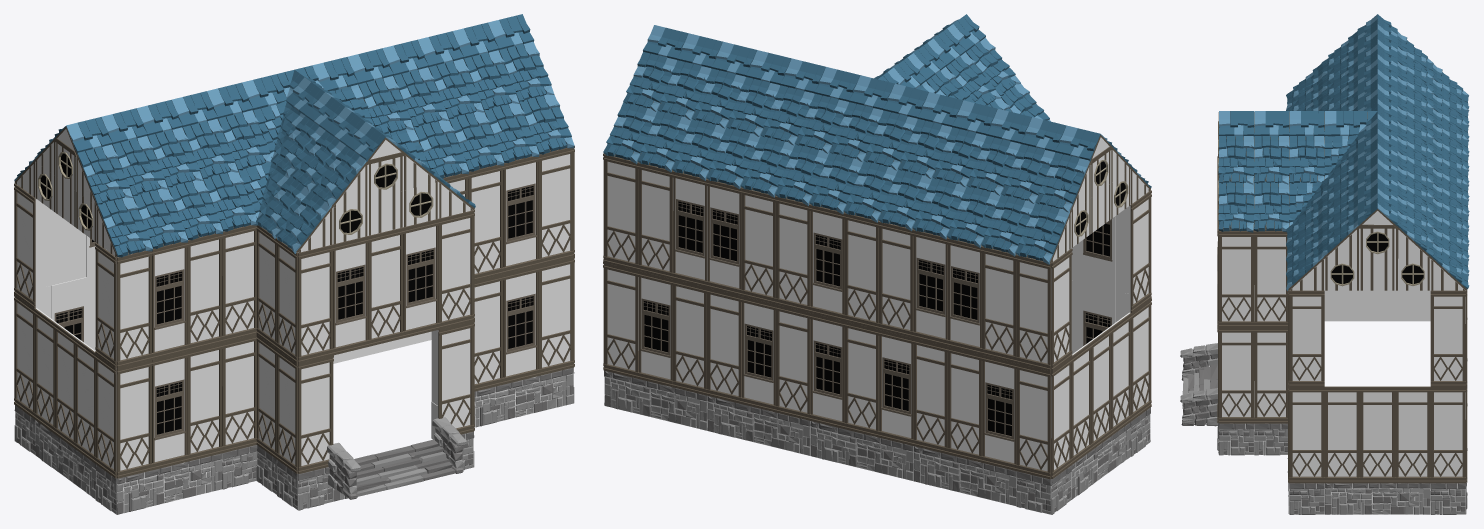
Rendered from House_16_parts.glb.
The picture shows the model from 3 angles, left to right: view 1: azimuth 30°, elevation 25°; view 2: azimuth 150°, elevation 25°; view 3: azimuth 270°, elevation 25°; orthographic projection. The views are drawn at different scales.
Visible parts, largest first — view 1: STAIRS_02_2, WINDOW_04_5, WALL_01_14, WALL_01_16, WALL_01_15, WINDOW_04_6, WINDOW_04_4, WINDOW_04_11, WALL_01_40, WALL_01_12, WINDOW_04_3, WALL_01_41 (+89 smaller); view 2: WALL_01_28, WALL_01_53, WALL_01_24, WALL_01_55, WALL_01_27, WALL_01_25, WALL_01_49, WINDOW_04_17, WALL_01_56, WALL_01_30, WINDOW_04_16, WALL_01_31 (+84 smaller); view 3: WALL_01_47, WALL_01_43, WALL_01_45, WALL_01_46, WALL_01_42, WALL_01_44, WALL_01_48, FOUNDATION_02_34, FOUNDATION_02_29, WALL_01_34, WALL_01_33, WALL_01_35 (+69 smaller).
Part boxes in pixels (x1=…): STAIRS_02_2: x1=327, y1=417, x2=466, y2=499; WINDOW_04_5: x1=403, y1=219, x2=439, y2=337; WALL_01_14: x1=298, y1=244, x2=333, y2=363; WALL_01_16: x1=438, y1=210, x2=474, y2=329; WALL_01_15: x1=368, y1=227, x2=404, y2=346; WINDOW_04_6: x1=333, y1=236, x2=368, y2=355; WINDOW_04_4: x1=152, y1=242, x2=187, y2=359; WINDOW_04_11: x1=503, y1=156, x2=539, y2=273; WALL_01_40: x1=538, y1=148, x2=574, y2=265; WALL_01_12: x1=187, y1=233, x2=222, y2=351; WINDOW_04_3: x1=152, y1=351, x2=187, y2=469; WALL_01_41: x1=538, y1=257, x2=574, y2=375; WALL_01_28: x1=1016, y1=255, x2=1051, y2=371; WALL_01_53: x1=775, y1=196, x2=810, y2=312; WALL_01_24: x1=1016, y1=363, x2=1051, y2=479; WALL_01_55: x1=638, y1=162, x2=673, y2=278; WALL_01_27: x1=844, y1=321, x2=879, y2=437; WALL_01_25: x1=947, y1=346, x2=982, y2=462; WALL_01_49: x1=775, y1=304, x2=810, y2=420; WINDOW_04_17: x1=706, y1=179, x2=741, y2=295; WALL_01_56: x1=603, y1=154, x2=638, y2=270; WALL_01_30: x1=878, y1=221, x2=913, y2=337; WINDOW_04_16: x1=810, y1=204, x2=844, y2=320; WALL_01_31: x1=844, y1=213, x2=878, y2=329; WALL_01_47: x1=1395, y1=386, x2=1430, y2=483; WALL_01_43: x1=1289, y1=290, x2=1324, y2=387; WALL_01_45: x1=1324, y1=386, x2=1359, y2=483; WALL_01_46: x1=1360, y1=386, x2=1395, y2=483; WALL_01_42: x1=1430, y1=290, x2=1465, y2=387; WALL_01_44: x1=1289, y1=387, x2=1324, y2=483; WALL_01_48: x1=1430, y1=387, x2=1465, y2=483; FOUNDATION_02_34: x1=1324, y1=483, x2=1430, y2=514; FOUNDATION_02_29: x1=1324, y1=290, x2=1430, y2=321; WALL_01_34: x1=1219, y1=327, x2=1253, y2=423; WALL_01_33: x1=1219, y1=231, x2=1253, y2=327; WALL_01_35: x1=1254, y1=327, x2=1288, y2=423.
Size of the model in its own units: 13.09 by 9.59 by 8.19.
Materials: 1 (1 with a texture image).
